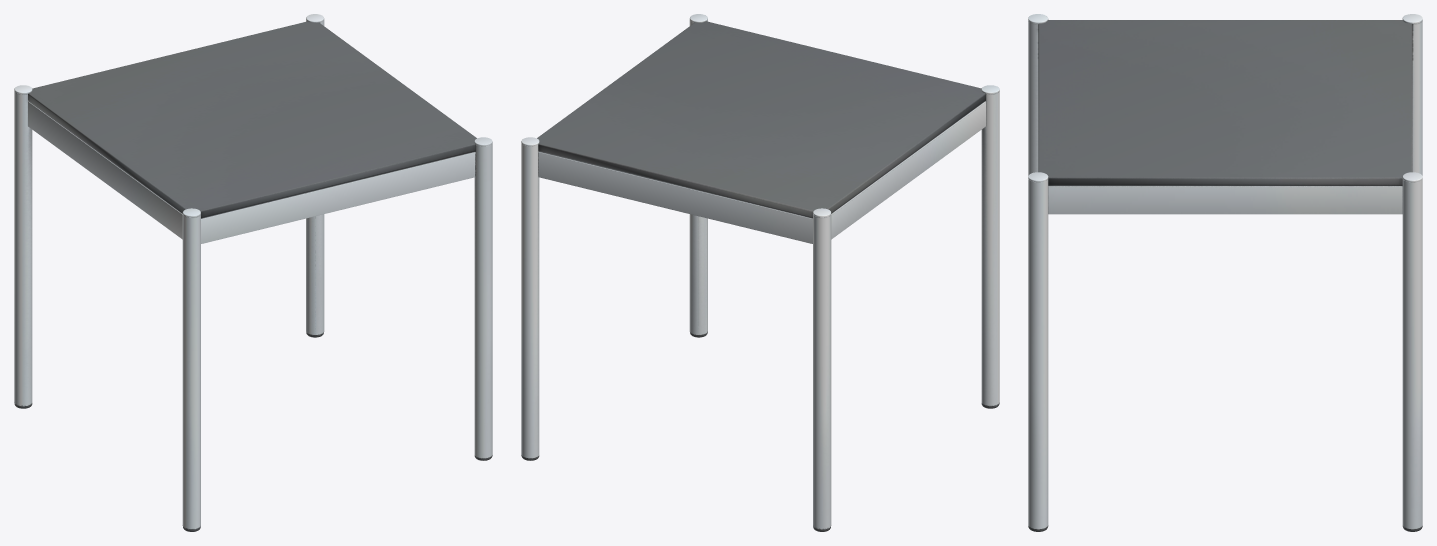
File: usm_table.glb
3 views of the same model, side by side, from view 1: azimuth 30°, elevation 25°; view 2: azimuth 150°, elevation 25°; view 3: azimuth 270°, elevation 25° (orthographic). The views are drawn at different scales.
Parts seen in each view (by area): view 1: usm_table_75-black; view 2: usm_table_75-black; view 3: usm_table_75-black.
Part boxes in pixels (<box>): usm_table_75-black: <box>14,14,492,531</box>; usm_table_75-black: <box>521,14,999,531</box>; usm_table_75-black: <box>1028,14,1422,531</box>.
Size of the model in its own units: 0.7504 by 0.7402 by 0.7504.
1 material, 1 textured.
